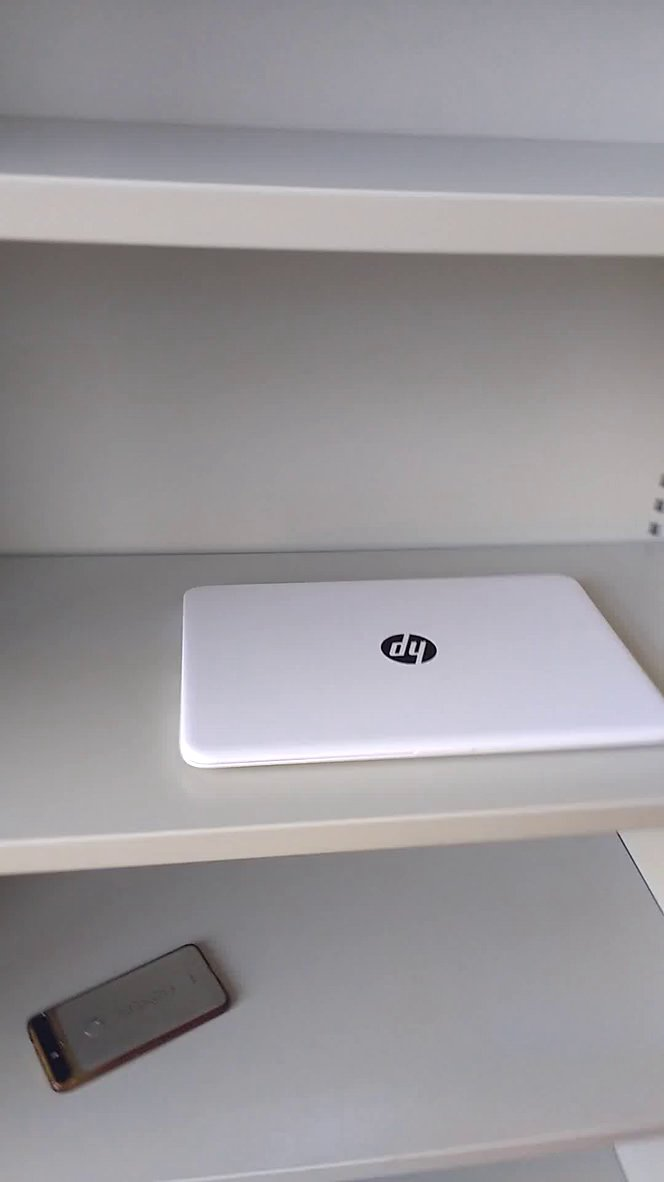laptop: (165, 555, 664, 785)
phone: (16, 922, 251, 1102)
